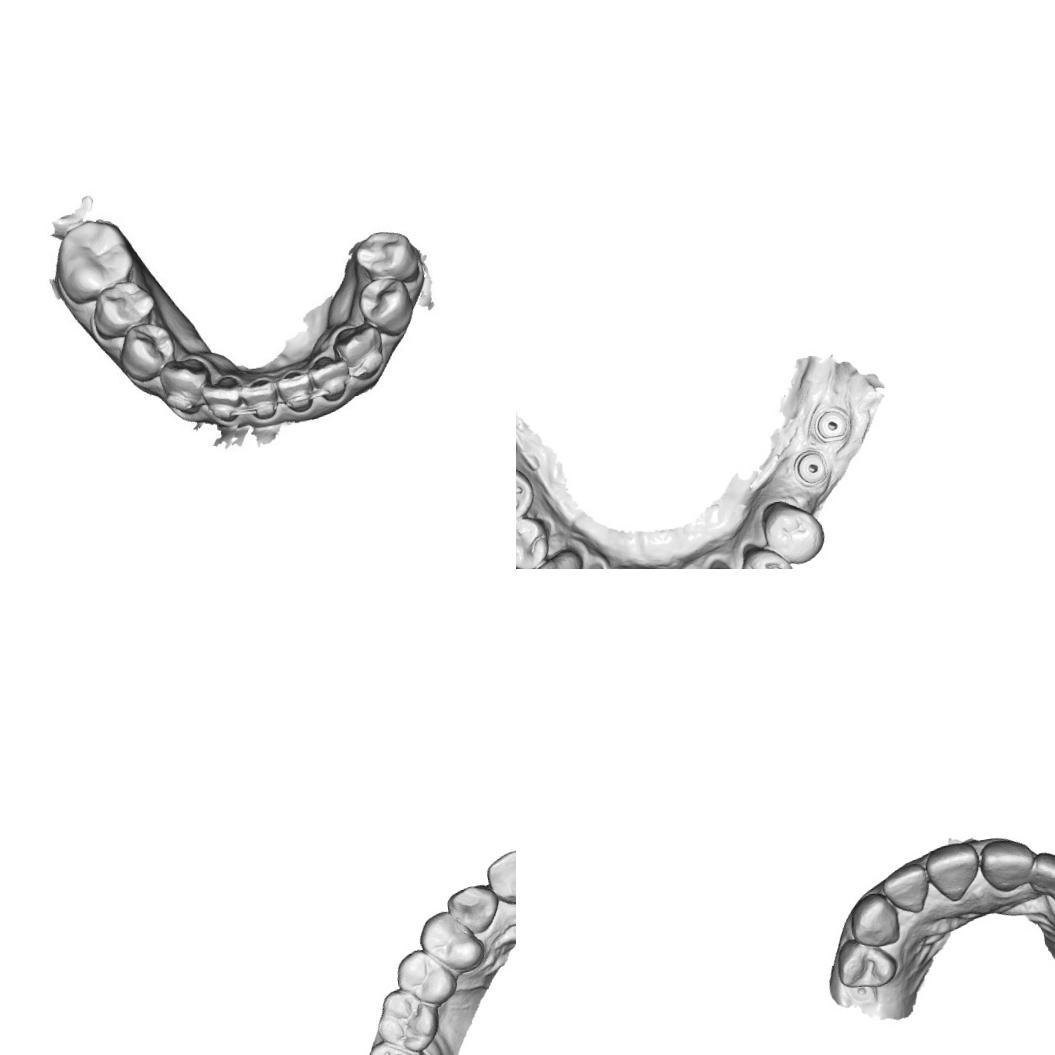canine: (842, 888, 904, 952), (442, 880, 504, 939), (160, 356, 218, 417), (338, 326, 390, 382), (526, 549, 588, 569)
implant: (811, 404, 854, 448), (792, 446, 830, 488)
incisor: (921, 838, 986, 908), (975, 832, 1040, 897), (878, 858, 936, 920), (482, 845, 516, 909), (308, 353, 350, 401), (242, 371, 281, 422), (202, 374, 242, 423), (276, 365, 314, 414), (1024, 845, 1055, 896)
molar: (49, 214, 139, 308), (371, 981, 444, 1055), (356, 1033, 440, 1055)
premolar: (414, 904, 489, 980), (757, 498, 830, 569), (391, 943, 461, 1012), (348, 224, 419, 287), (88, 280, 160, 341), (831, 934, 901, 995), (119, 321, 176, 378), (358, 275, 409, 330), (516, 511, 555, 569), (735, 540, 799, 569), (516, 462, 540, 529)
